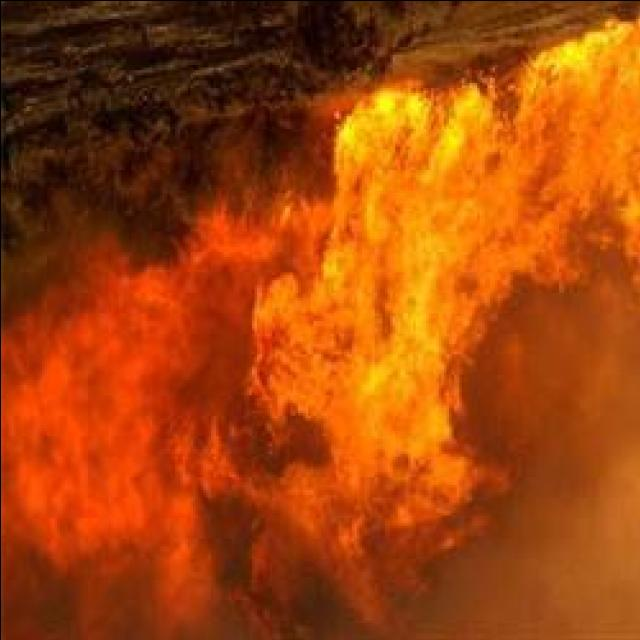fire: (373, 255, 445, 446), (574, 35, 640, 219), (270, 292, 370, 410), (336, 419, 444, 519), (344, 101, 426, 223), (440, 124, 504, 276)
smoke: (528, 463, 640, 638), (508, 324, 630, 454), (0, 561, 115, 640), (232, 544, 323, 640)
